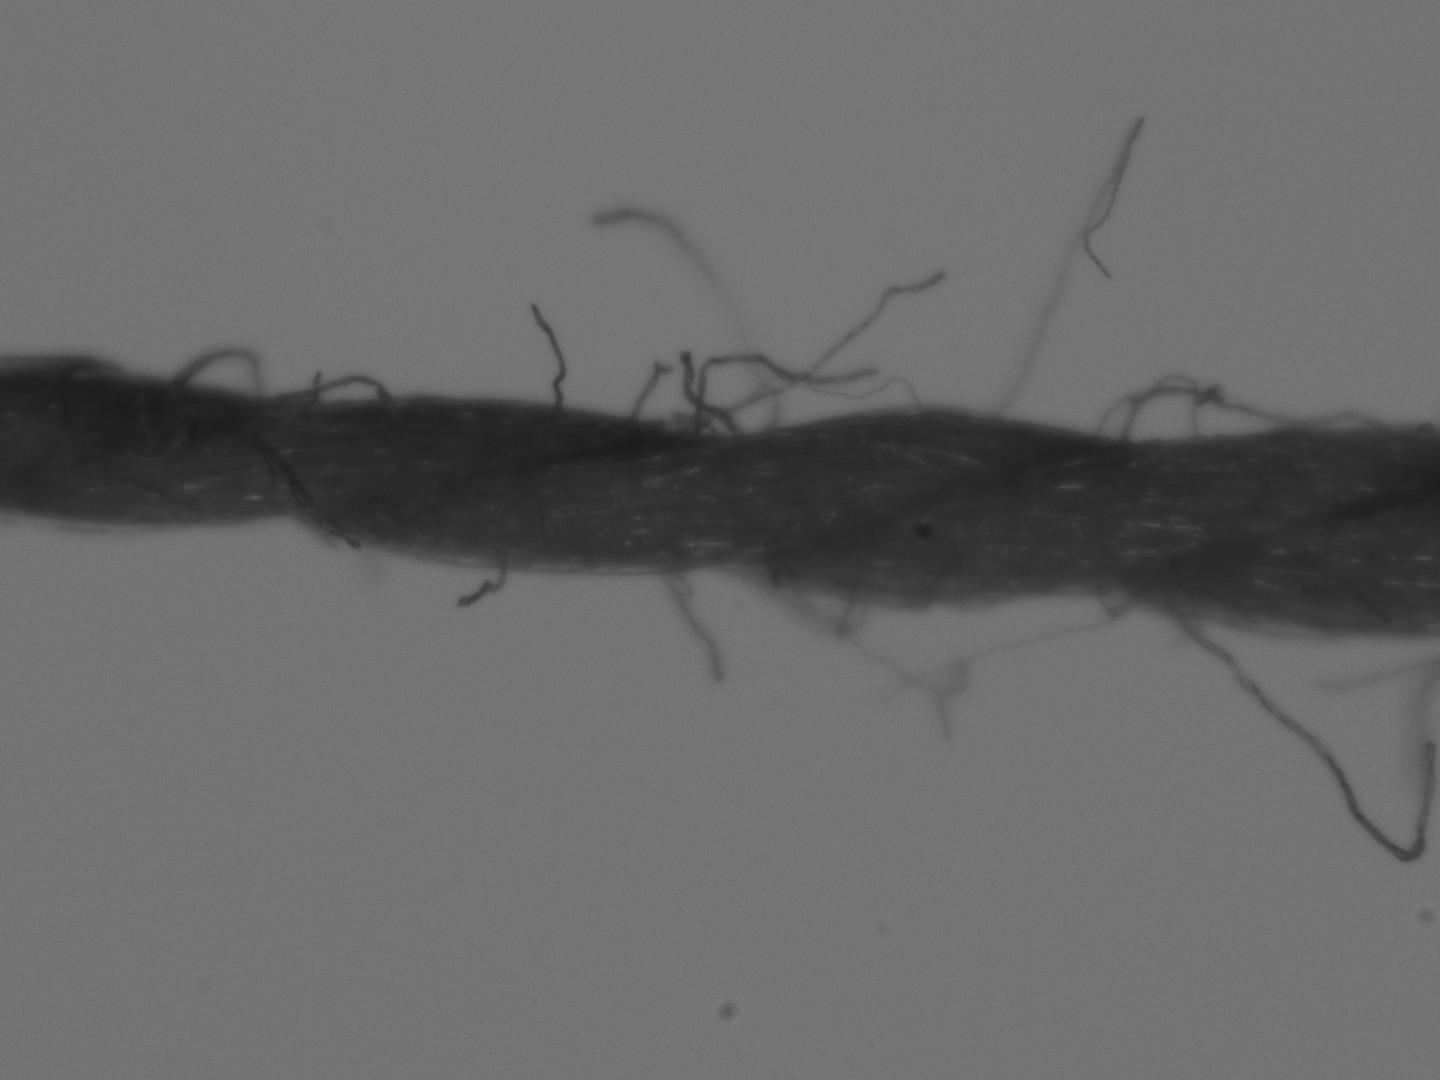loop_fiber: (1158, 601, 1437, 866), (746, 577, 1143, 744), (1086, 371, 1399, 441), (168, 345, 399, 408), (704, 374, 923, 436)
protruding_fiber: (984, 117, 1153, 423), (703, 267, 947, 437), (588, 211, 778, 427), (692, 349, 876, 430), (660, 573, 725, 681), (522, 296, 568, 427), (677, 349, 739, 437), (452, 556, 511, 611), (625, 357, 669, 424)
